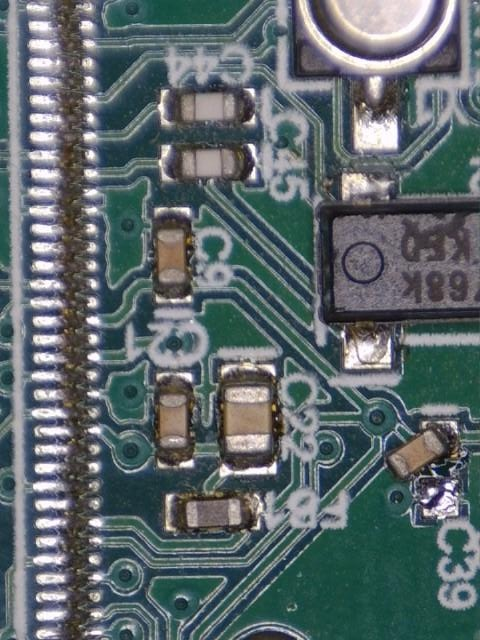pcb_defect: (384, 419, 460, 519)
